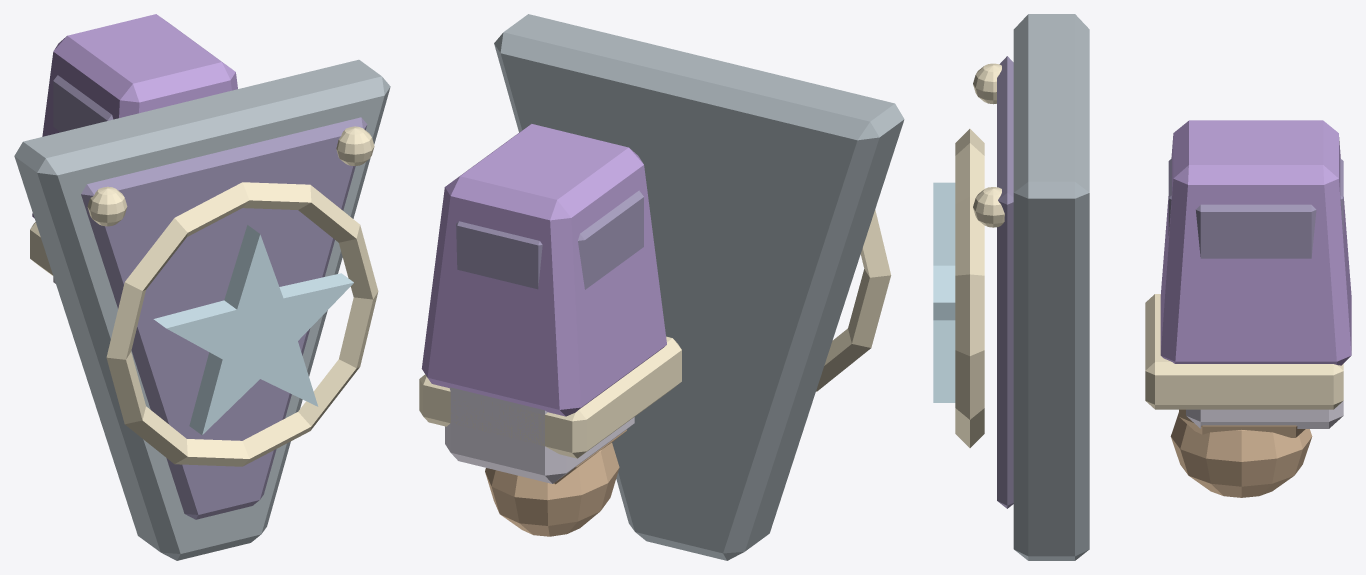
File: Oracle_Defender_LeftArm.fbx
3 renders of one model, left to right at view 1: azimuth 30°, elevation 25°; view 2: azimuth 150°, elevation 25°; view 3: azimuth 270°, elevation 25°, orthographic. The views are drawn at different scales.
Parts seen in each view (by area): view 1: Oracle_Defender_LeftArm; view 2: Oracle_Defender_LeftArm; view 3: Oracle_Defender_LeftArm.
Boxes of the visible parts, x1,y1,x2,y2 form: Oracle_Defender_LeftArm: [14, 14, 390, 560]; Oracle_Defender_LeftArm: [419, 14, 904, 560]; Oracle_Defender_LeftArm: [933, 14, 1351, 560].
Size of the model in its own units: 71.5 by 84 by 71.58.
